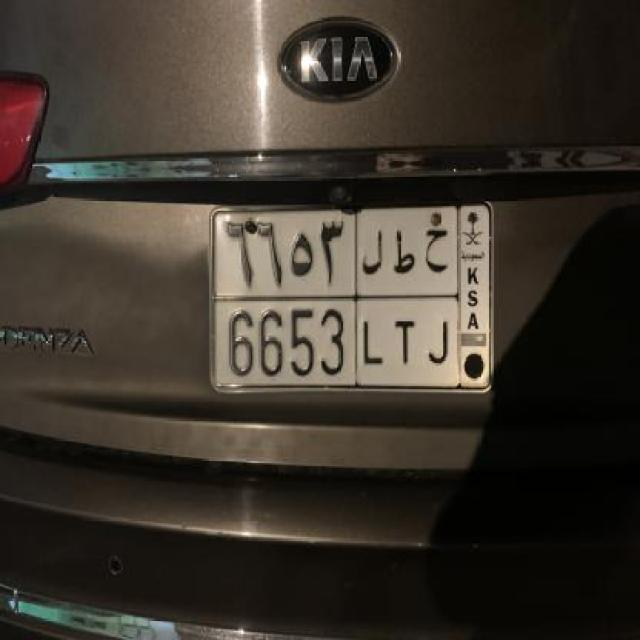license_plate: (207, 196, 498, 398)
